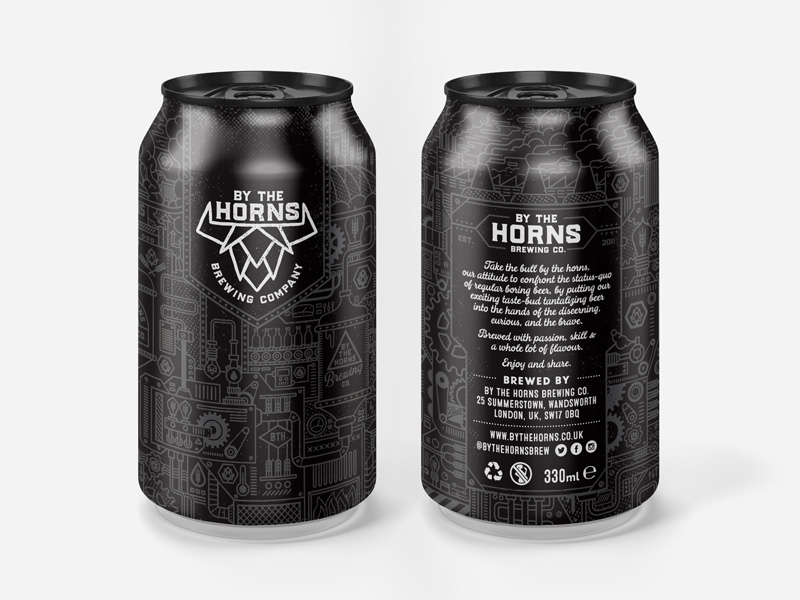beer can: (135, 69, 380, 531), (418, 69, 666, 523)
